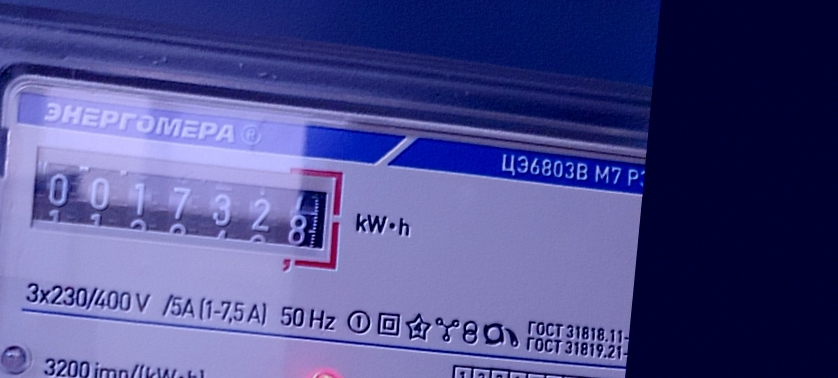0: (47, 170, 72, 208), (88, 175, 112, 211)
1: (131, 179, 149, 217)
2: (249, 196, 273, 234)
3: (209, 191, 235, 228)
7: (167, 183, 194, 222)
8: (285, 211, 308, 248)
screen: (19, 143, 349, 273)
